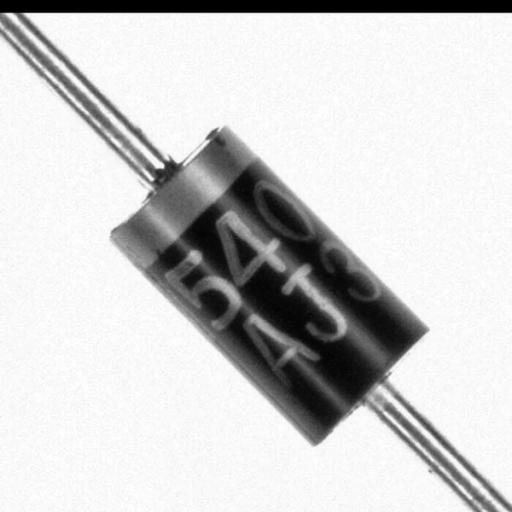DIODE: (0, 11, 511, 511)
